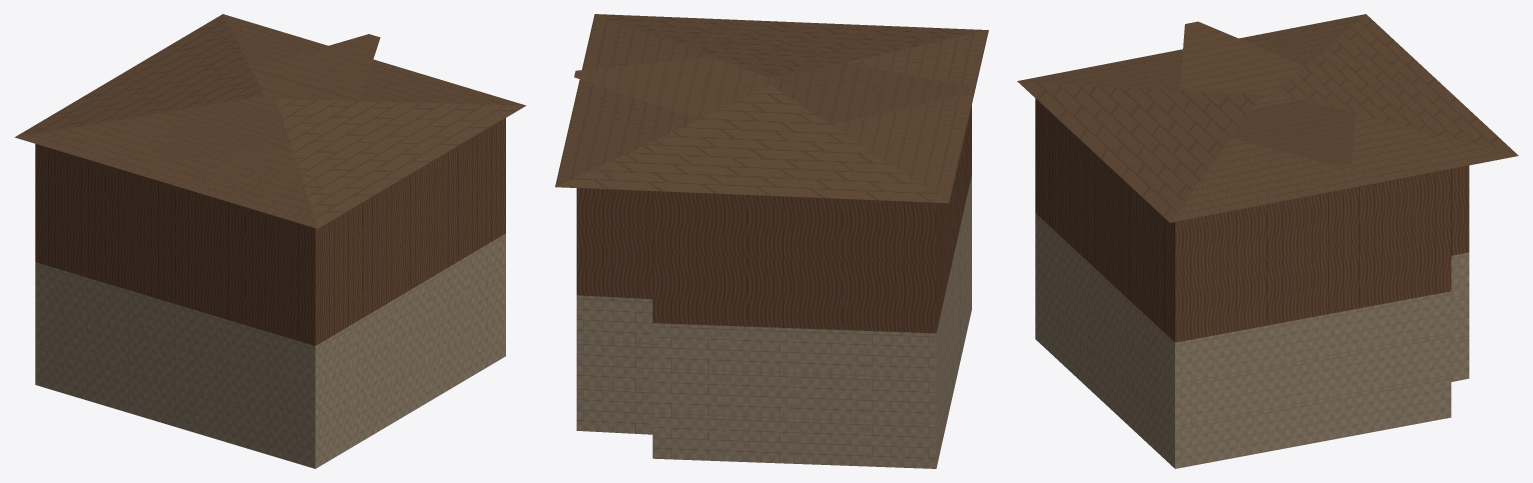
Rendered from bld_c32_46_248.gltf.
The picture shows the model from 3 angles, left to right: view 1: azimuth 30°, elevation 25°; view 2: azimuth 150°, elevation 25°; view 3: azimuth 270°, elevation 25°; orthographic projection. The views are drawn at different scales.
Parts seen in each view (by area): view 1: bld_c32_46_248; view 2: bld_c32_46_248; view 3: bld_c32_46_248.
Boxes of the visible parts, left/top/right/bottom form: bld_c32_46_248: left=15, top=14, right=526, bottom=468; bld_c32_46_248: left=555, top=14, right=988, bottom=468; bld_c32_46_248: left=1017, top=14, right=1518, bottom=468.
Bounding box in the file's own units: 18.11 × 11.3 × 18.38.
3 materials, 3 textured.
